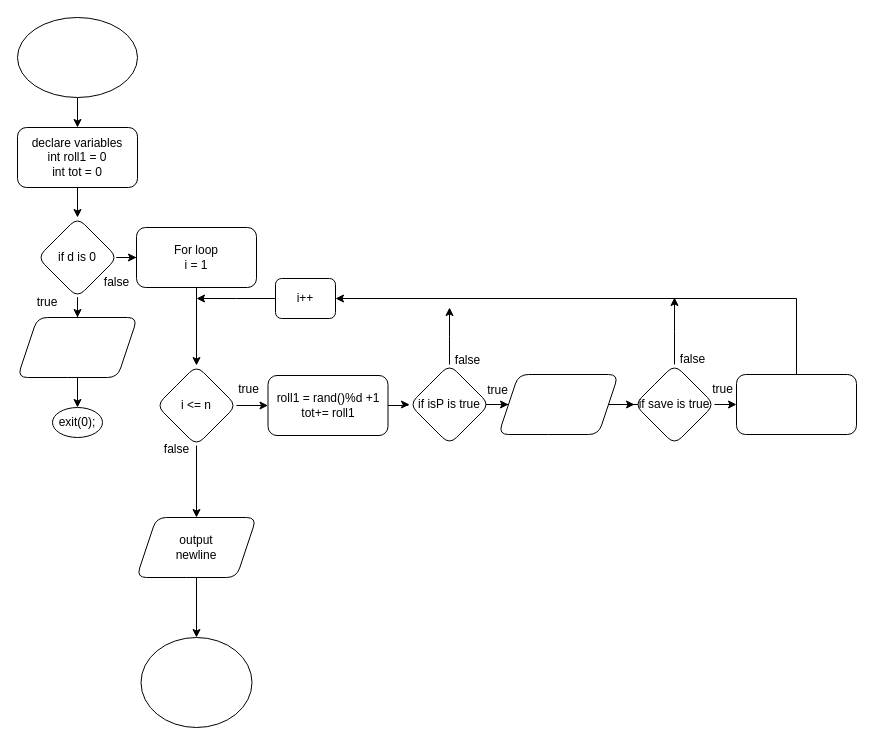
This 874x745 diagram has some shape labels left out. The centre of each missing label's shape, as x and y in pixels:
int roll(vector<int>& rolls, bool save, bool isP, int n, int d): (x=77, y=57)
output "error_0": (x=77, y=347)
output "You rolled a " << roll1 << ". ": (x=558, y=404)
return tot: (x=196, y=682)
rolls.push_back(tot): (x=796, y=404)
